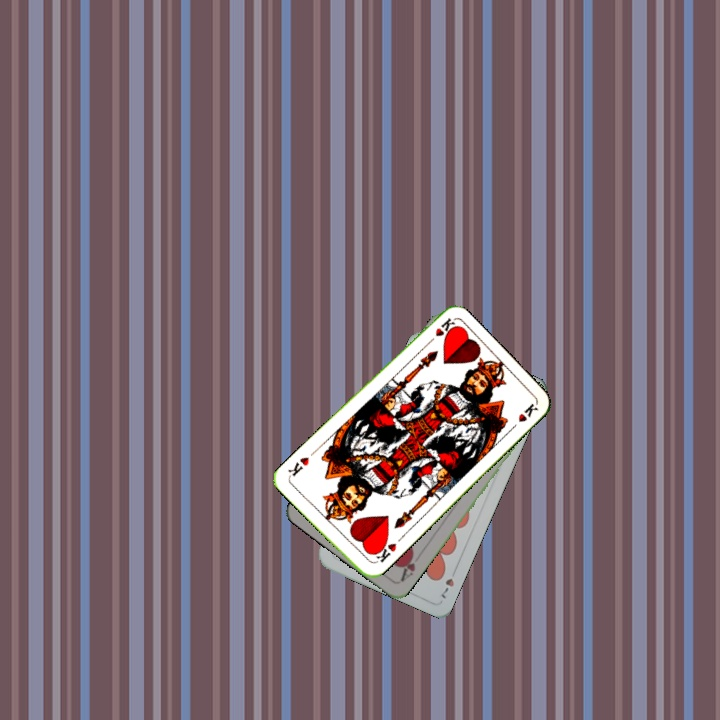H7: (437, 564, 460, 601)
HA: (396, 547, 418, 584)
HK: (422, 314, 457, 348), (369, 537, 399, 565)
